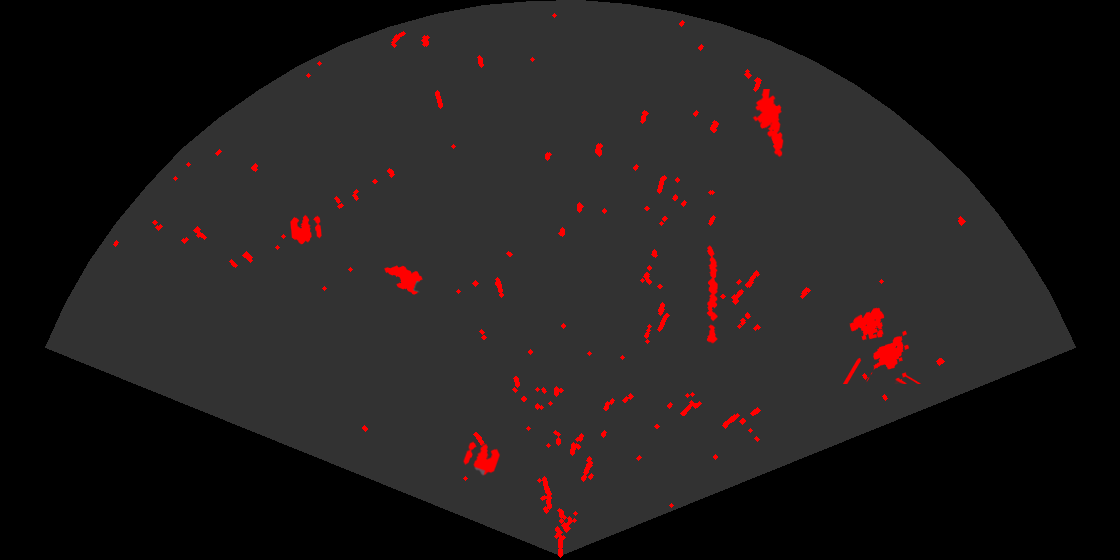AUV: (383, 264, 424, 296)
ball: (461, 440, 502, 477), (289, 213, 323, 246)
cage: (841, 306, 922, 384)
chain: (705, 244, 719, 345)
frogman: (751, 89, 785, 158)
